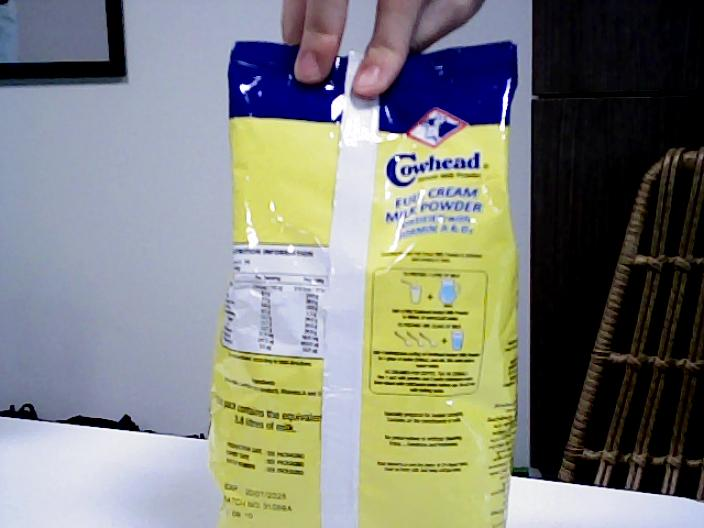Adult_Milk_500-599g_Halal_NonHealthy: (213, 95, 515, 521)
